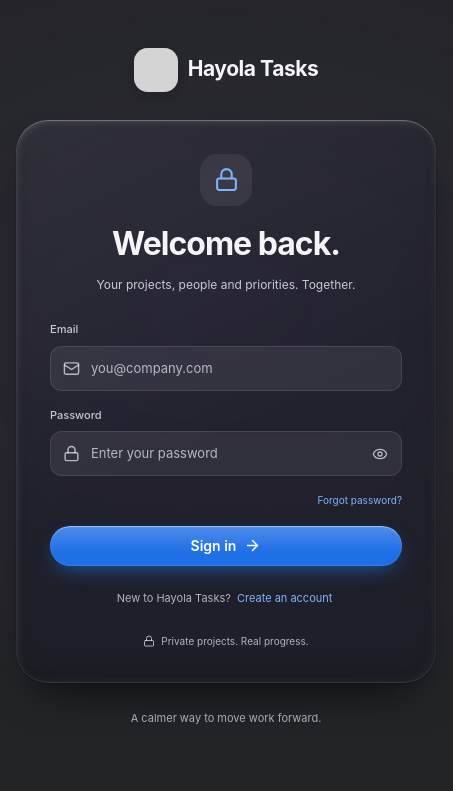
Test case: Backend setup and authentication › signup supplies full name and shows confirmation
Click the button "Create an account". click: (285, 599)
box: [234, 591, 335, 607]
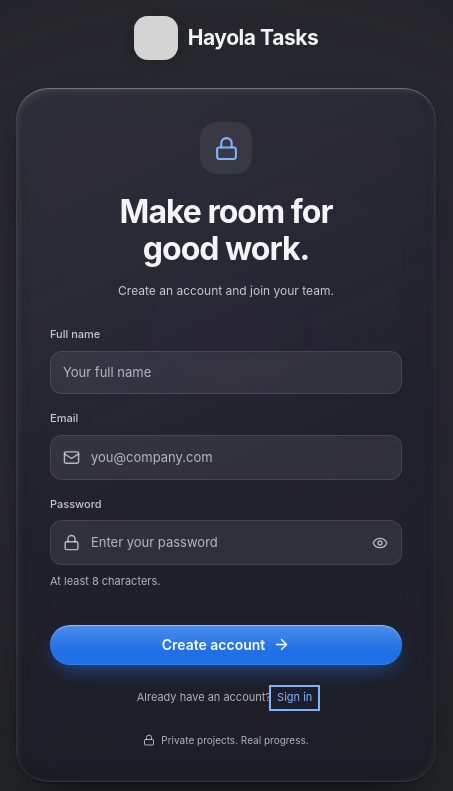
Type "New Teammate" into the field labelled "Full name". click: (226, 372)
box: [50, 351, 402, 394]
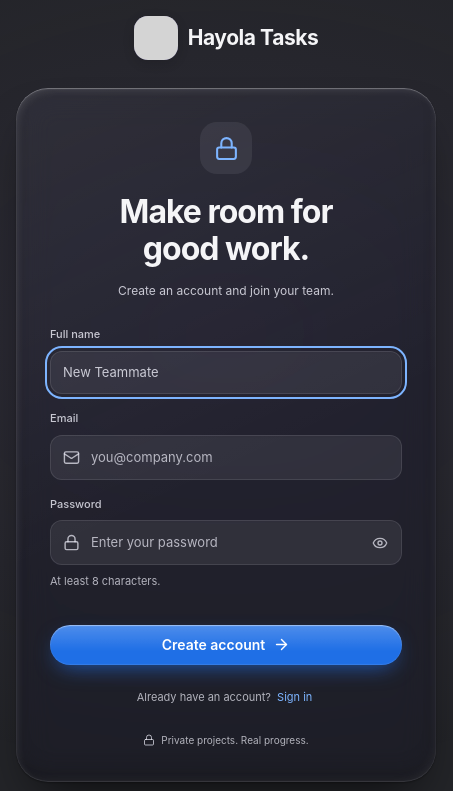
Type "new@example.com" into the field labelled "Email". click: (226, 457)
box: [50, 435, 402, 480]
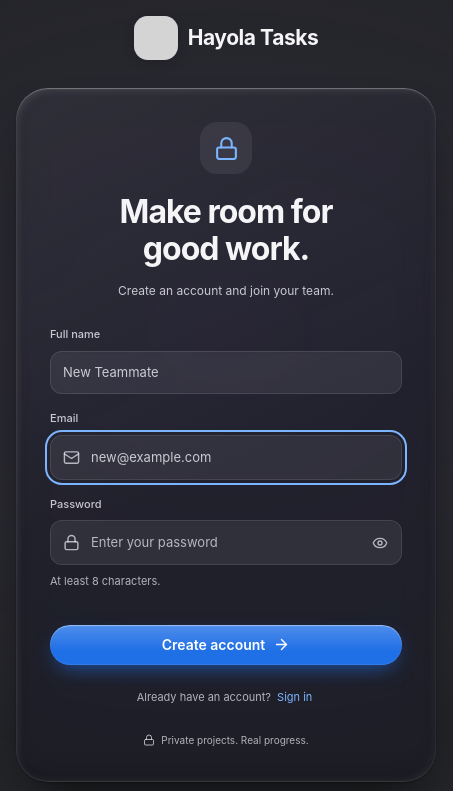
Type "secure-password" into the password field labelled "Password At least 8 characters.". click: (226, 543)
box: [50, 520, 402, 565]
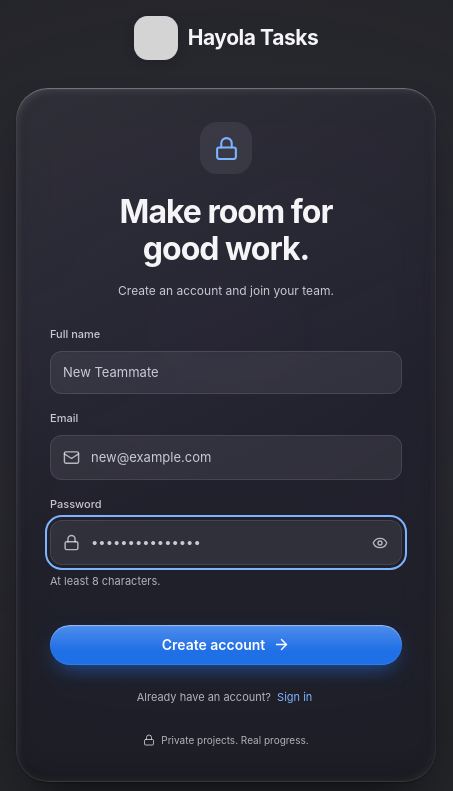
Click the button "Create account". click: (226, 645)
box: [50, 625, 402, 665]
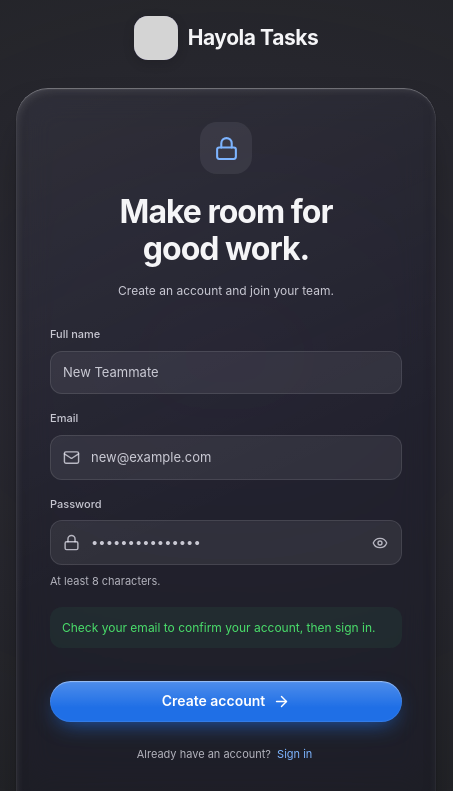
Check: the message shows "confirm", box [62, 620, 376, 635]
